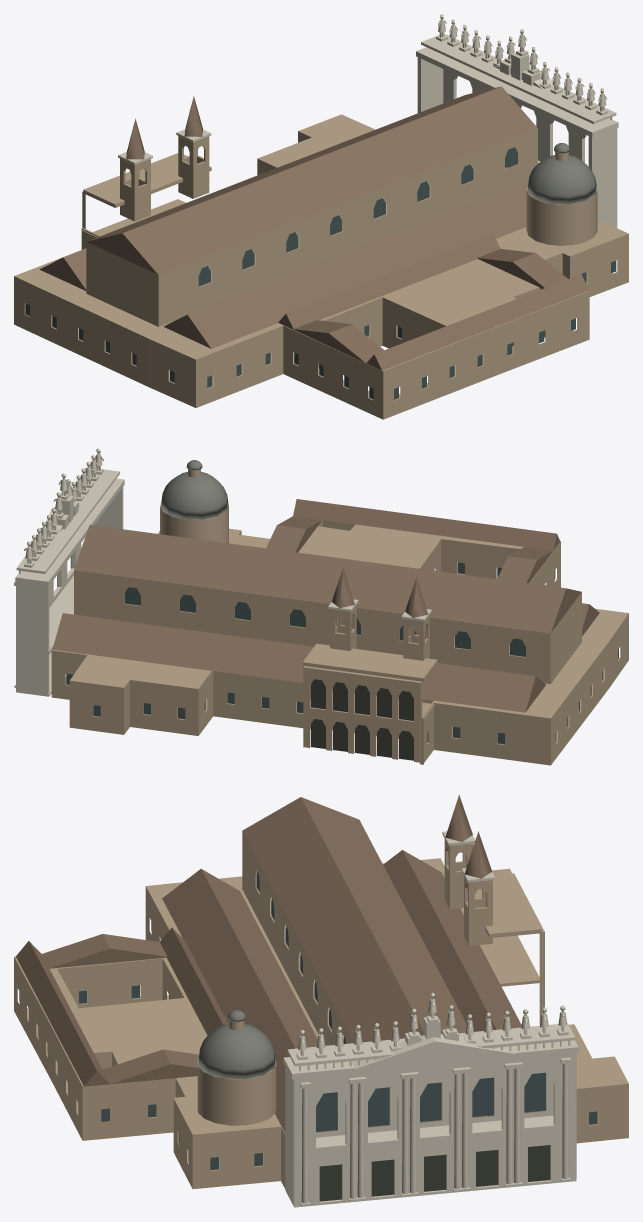
The model's file is san-giovanni-laterano-far.glb.
The picture shows the model from 3 angles, top to bottom: view 1: azimuth 30°, elevation 25°; view 2: azimuth 150°, elevation 25°; view 3: azimuth 270°, elevation 25°; orthographic projection. The views are drawn at different scales.
Parts seen in each view (by area): view 1: san-giovanni-laterano-0-masonry, san-giovanni-laterano-0-roof, san-giovanni-laterano-0-stone, san-giovanni-laterano-0-glass, san-giovanni-laterano-0-metal; view 2: san-giovanni-laterano-0-masonry, san-giovanni-laterano-0-roof, san-giovanni-laterano-0-stone, san-giovanni-laterano-0-shadow, san-giovanni-laterano-0-glass, san-giovanni-laterano-0-metal; view 3: san-giovanni-laterano-0-roof, san-giovanni-laterano-0-masonry, san-giovanni-laterano-0-stone, san-giovanni-laterano-0-glass, san-giovanni-laterano-0-shadow, san-giovanni-laterano-0-metal.
Boxes of the visible parts, x1,y1,x2,y2 form: san-giovanni-laterano-0-masonry: (14, 114, 628, 419); san-giovanni-laterano-0-roof: (39, 86, 589, 370); san-giovanni-laterano-0-stone: (118, 14, 618, 227); san-giovanni-laterano-0-glass: (25, 147, 616, 399); san-giovanni-laterano-0-metal: (527, 143, 596, 204); san-giovanni-laterano-0-masonry: (51, 469, 628, 765); san-giovanni-laterano-0-roof: (52, 499, 599, 712); san-giovanni-laterano-0-stone: (14, 448, 431, 696); san-giovanni-laterano-0-shadow: (311, 679, 413, 760); san-giovanni-laterano-0-glass: (66, 562, 618, 744); san-giovanni-laterano-0-metal: (160, 460, 228, 519); san-giovanni-laterano-0-roof: (16, 794, 546, 1132); san-giovanni-laterano-0-masonry: (14, 831, 628, 1189); san-giovanni-laterano-0-stone: (283, 831, 578, 1207); san-giovanni-laterano-0-glass: (19, 871, 597, 1170); san-giovanni-laterano-0-shadow: (319, 1145, 550, 1201); san-giovanni-laterano-0-metal: (198, 1010, 275, 1078).
Bounding box in the file's own units: 158 × 48.8 × 138.
